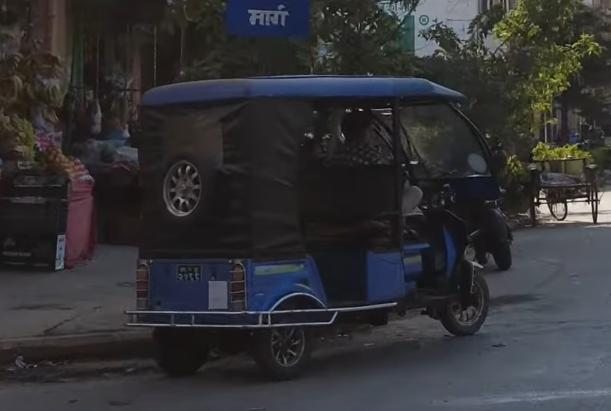e-rickshaw: (127, 66, 505, 388)
